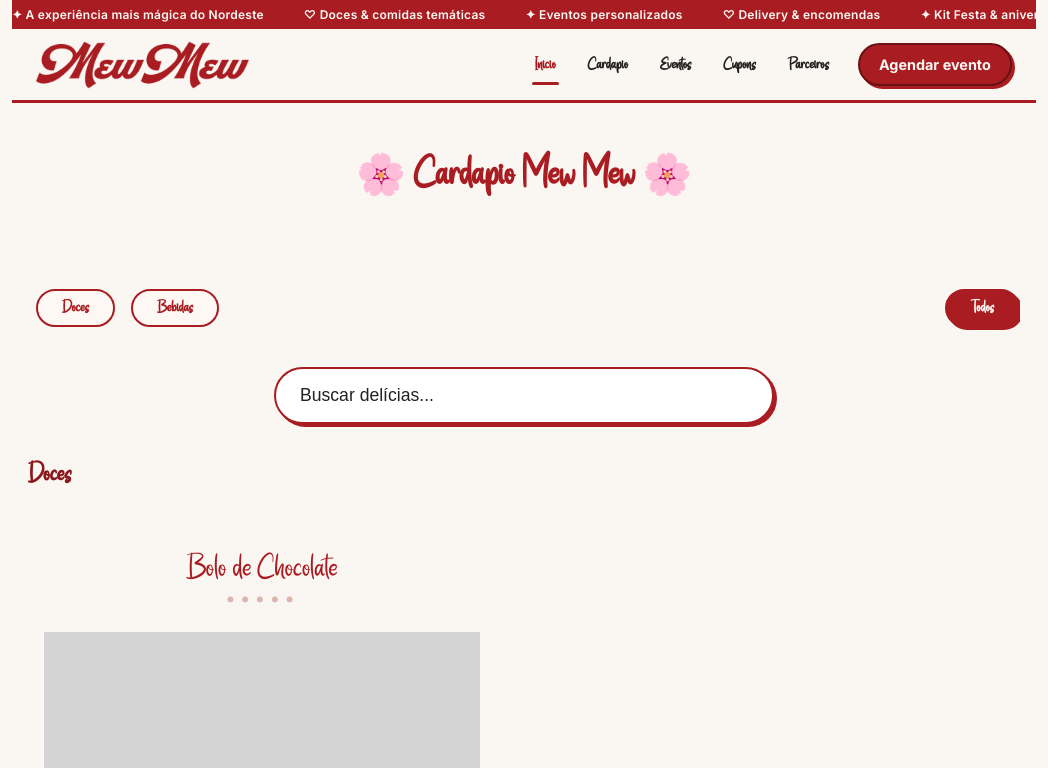
Test case: Página de Cardápio › deve filtrar produtos por categoria
Expected: the heading "Bolo de Chocolate" is shown, [186,552,338,586]
Click the button "Bebidas". click: (175, 308)
box: [131,289,219,327]
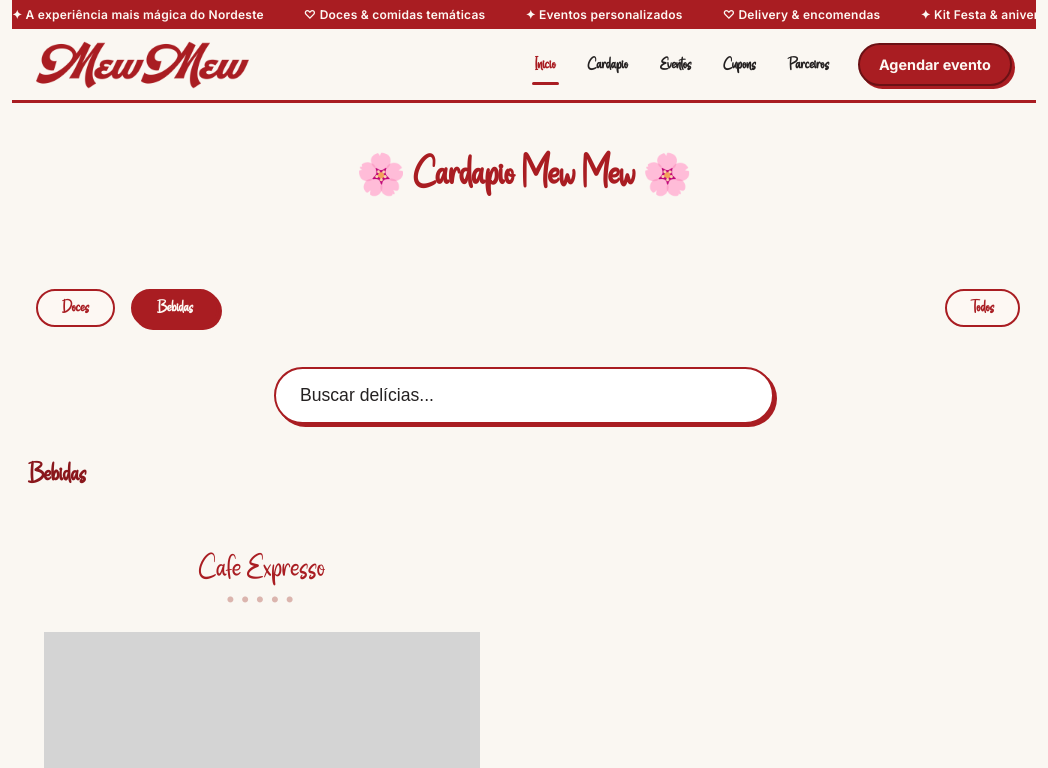
Expected: the heading "Café Expresso" is shown, [199,552,325,586]
Now the heading "Bolo de Chocolate" is gone
